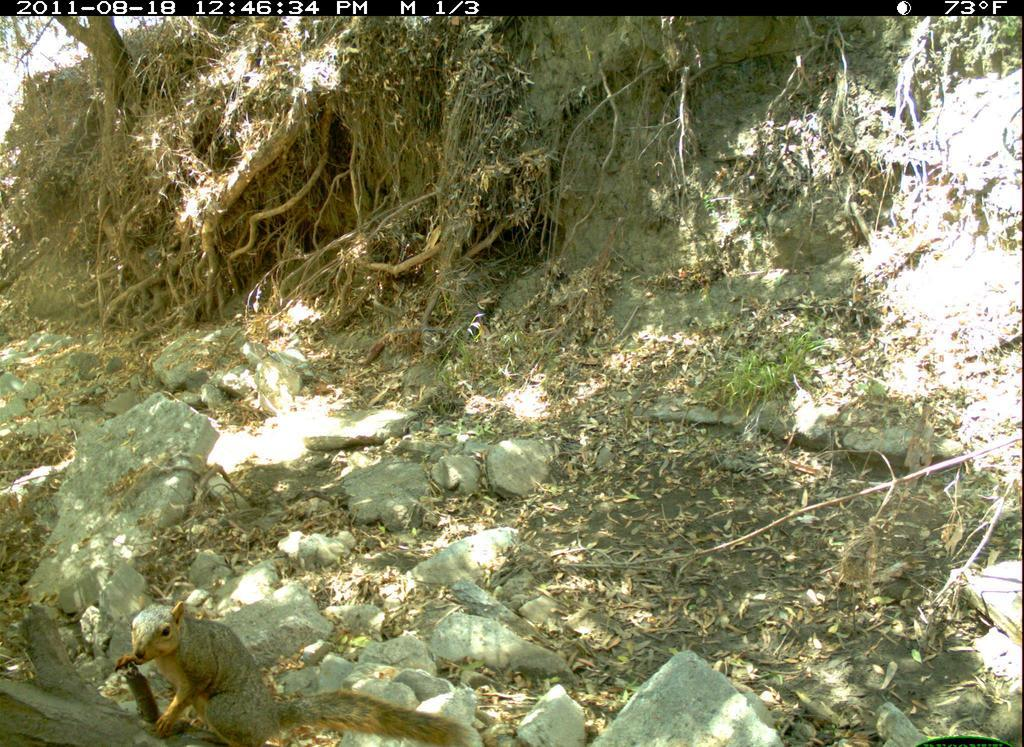squirrel: (107, 591, 479, 747)
